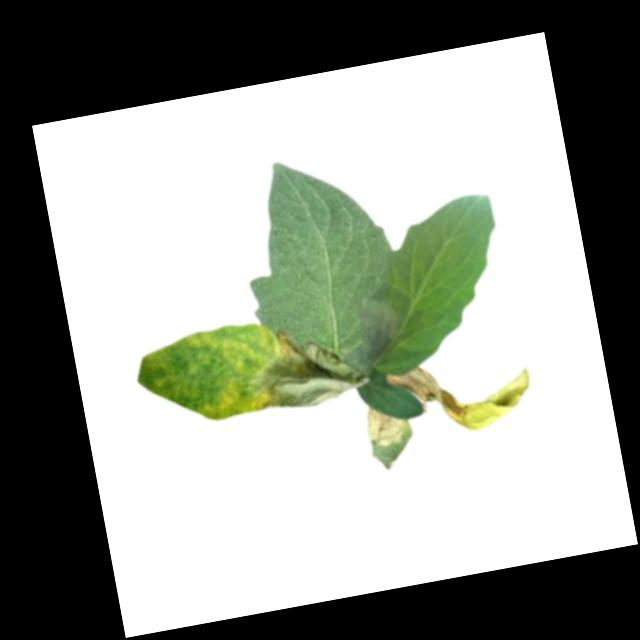Late_blight: (386, 344, 541, 444), (248, 317, 369, 415), (332, 289, 412, 380), (363, 397, 410, 449)
healthy: (228, 144, 406, 365)
